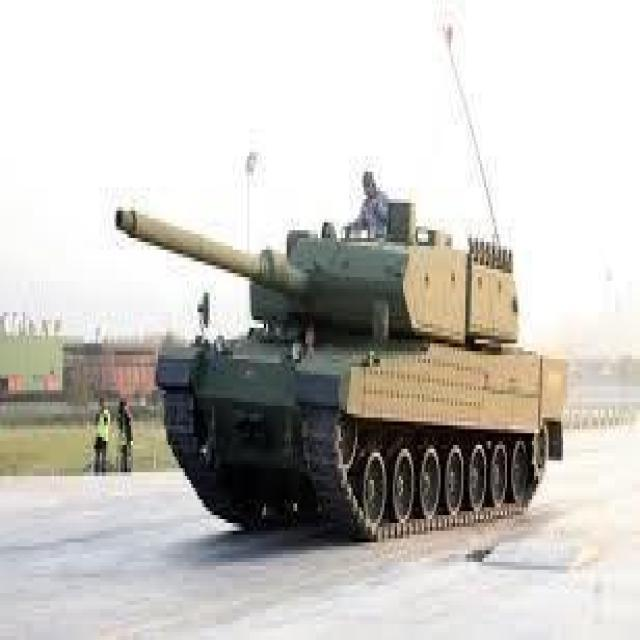MIL_MBT: (85, 74, 569, 597)
